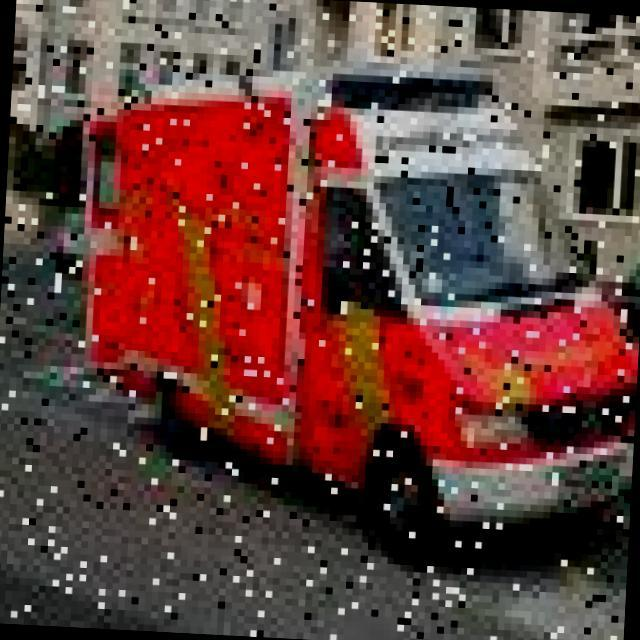emergency-vehicle: (61, 41, 640, 570)
